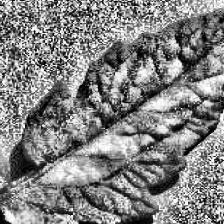leaf mold: (6, 3, 224, 224)
